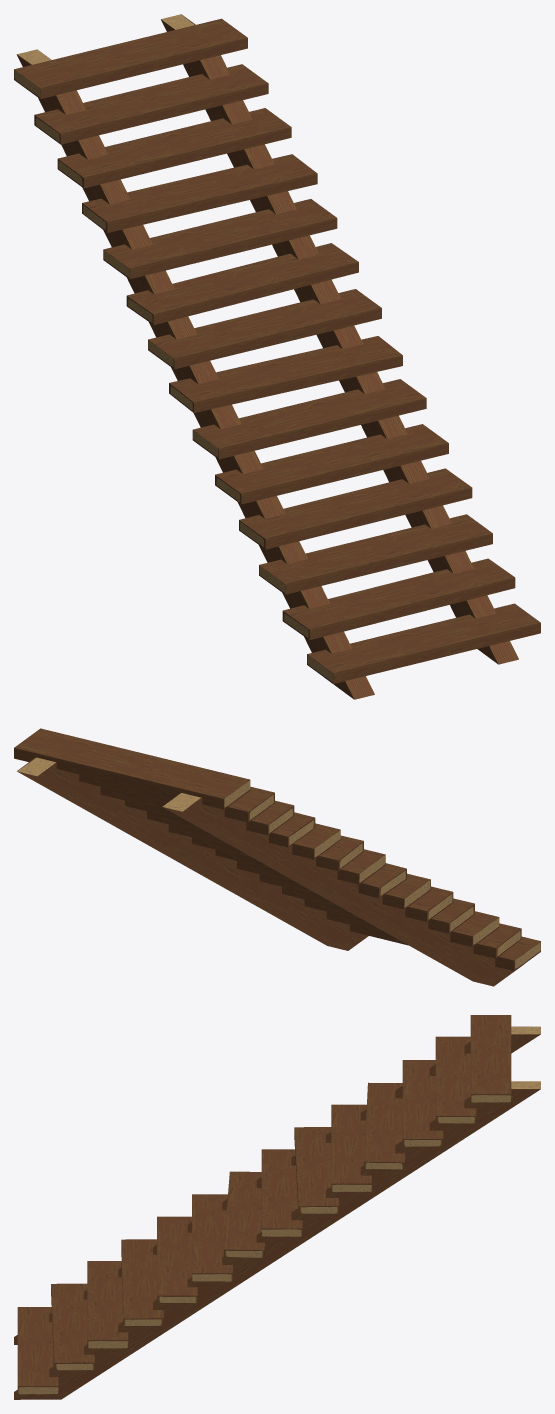
The model's file is Stair_Interior_Simple.gltf.
The picture shows the model from 3 angles, top to bottom: view 1: azimuth 30°, elevation 25°; view 2: azimuth 150°, elevation 25°; view 3: azimuth 270°, elevation 25°; orthographic projection. The views are drawn at different scales.
Parts seen in each view (by area): view 1: Stair_Interior_Simple; view 2: Stair_Interior_Simple; view 3: Stair_Interior_Simple.
Part boxes in pixels (x1=…): Stair_Interior_Simple: x1=14, y1=14, x2=540, y2=699; Stair_Interior_Simple: x1=14, y1=728, x2=540, y2=986; Stair_Interior_Simple: x1=14, y1=1015, x2=540, y2=1399.
Bounding box in the file's own units: 1.68 × 3.03 × 4.62.
Materials: 1 (1 with a texture image).
